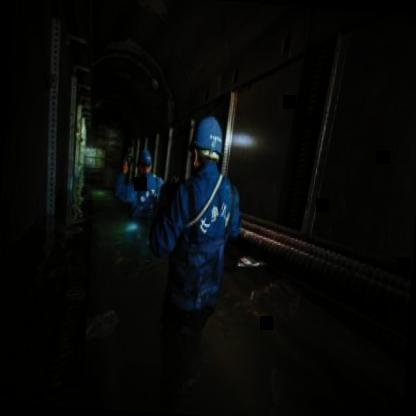helmet: (188, 113, 226, 180), (136, 148, 154, 178)
